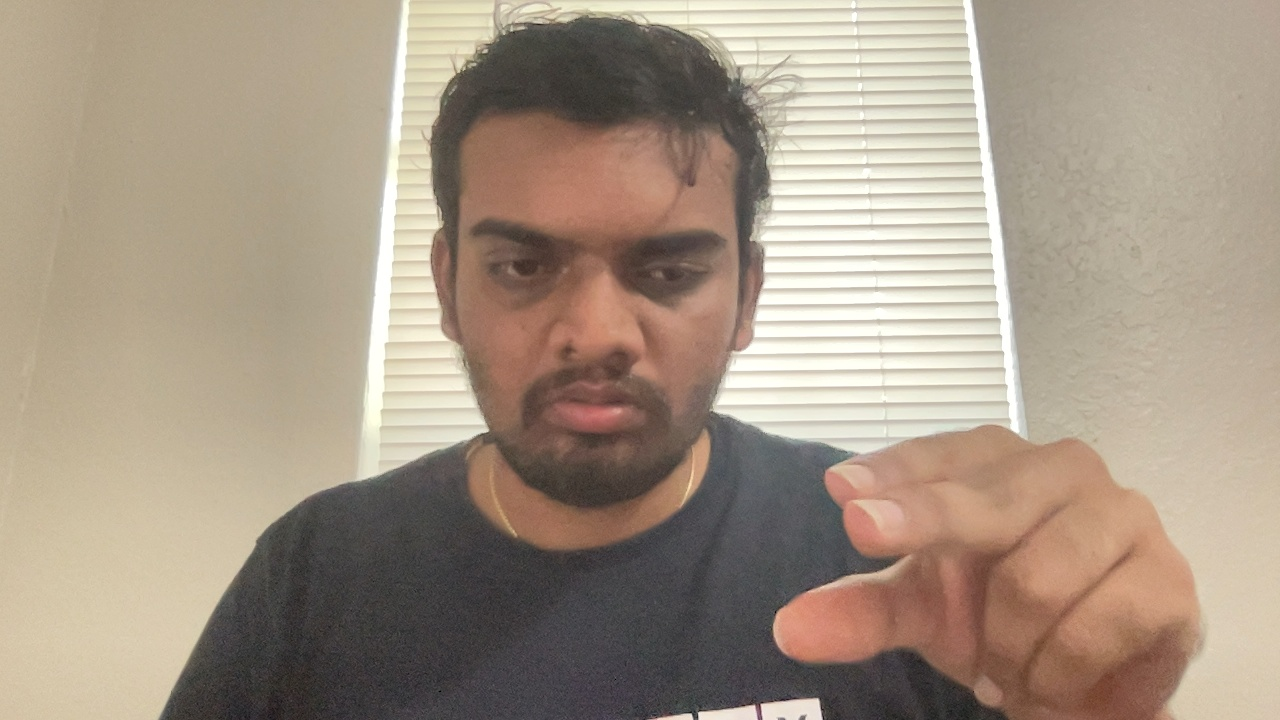no: (780, 408, 1213, 720)
